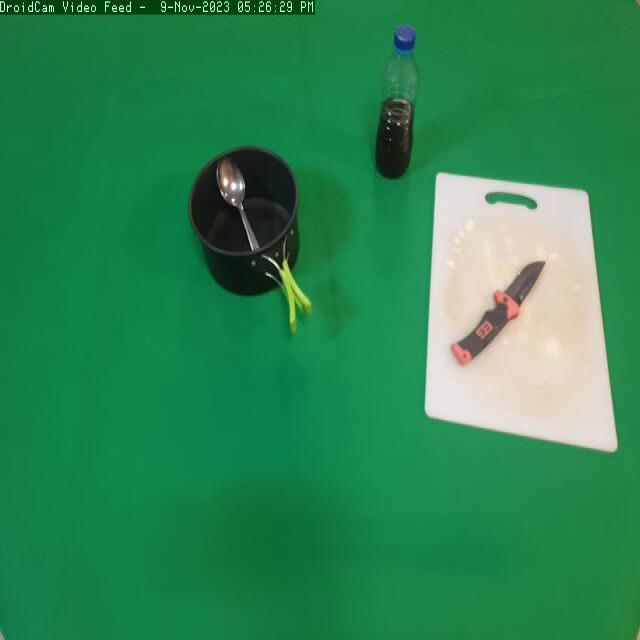cutting board: (420, 163, 629, 474)
fullbottle: (369, 18, 424, 194)
knife: (450, 248, 549, 380)
pot: (182, 135, 319, 337)
spoon: (210, 144, 265, 253)
